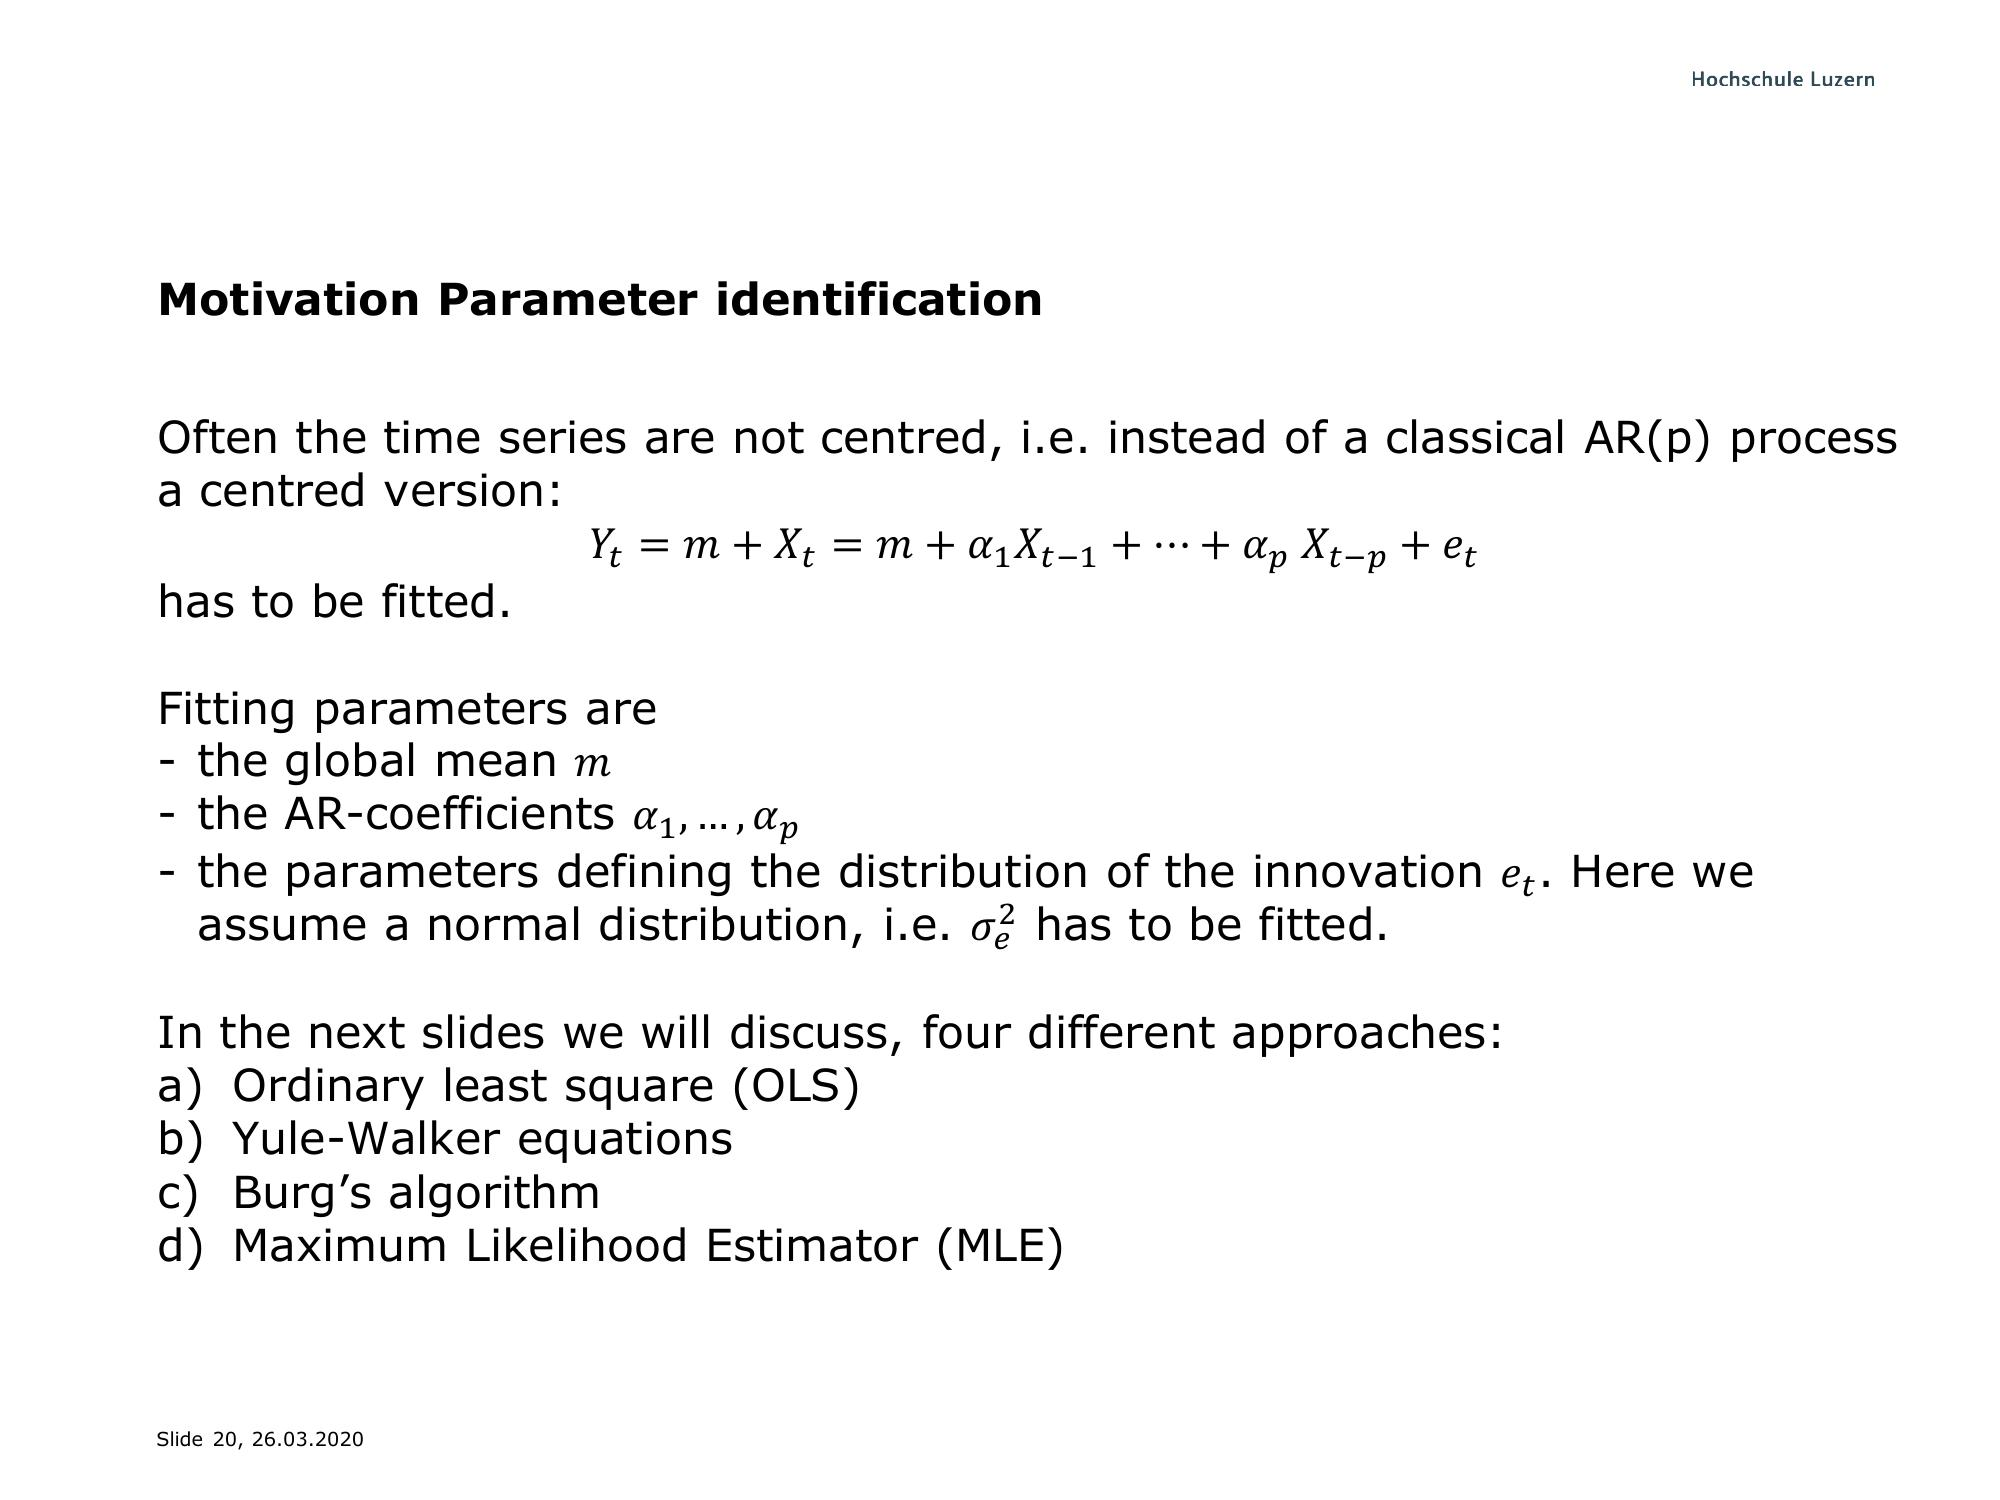Title: (128, 266, 1054, 328)
